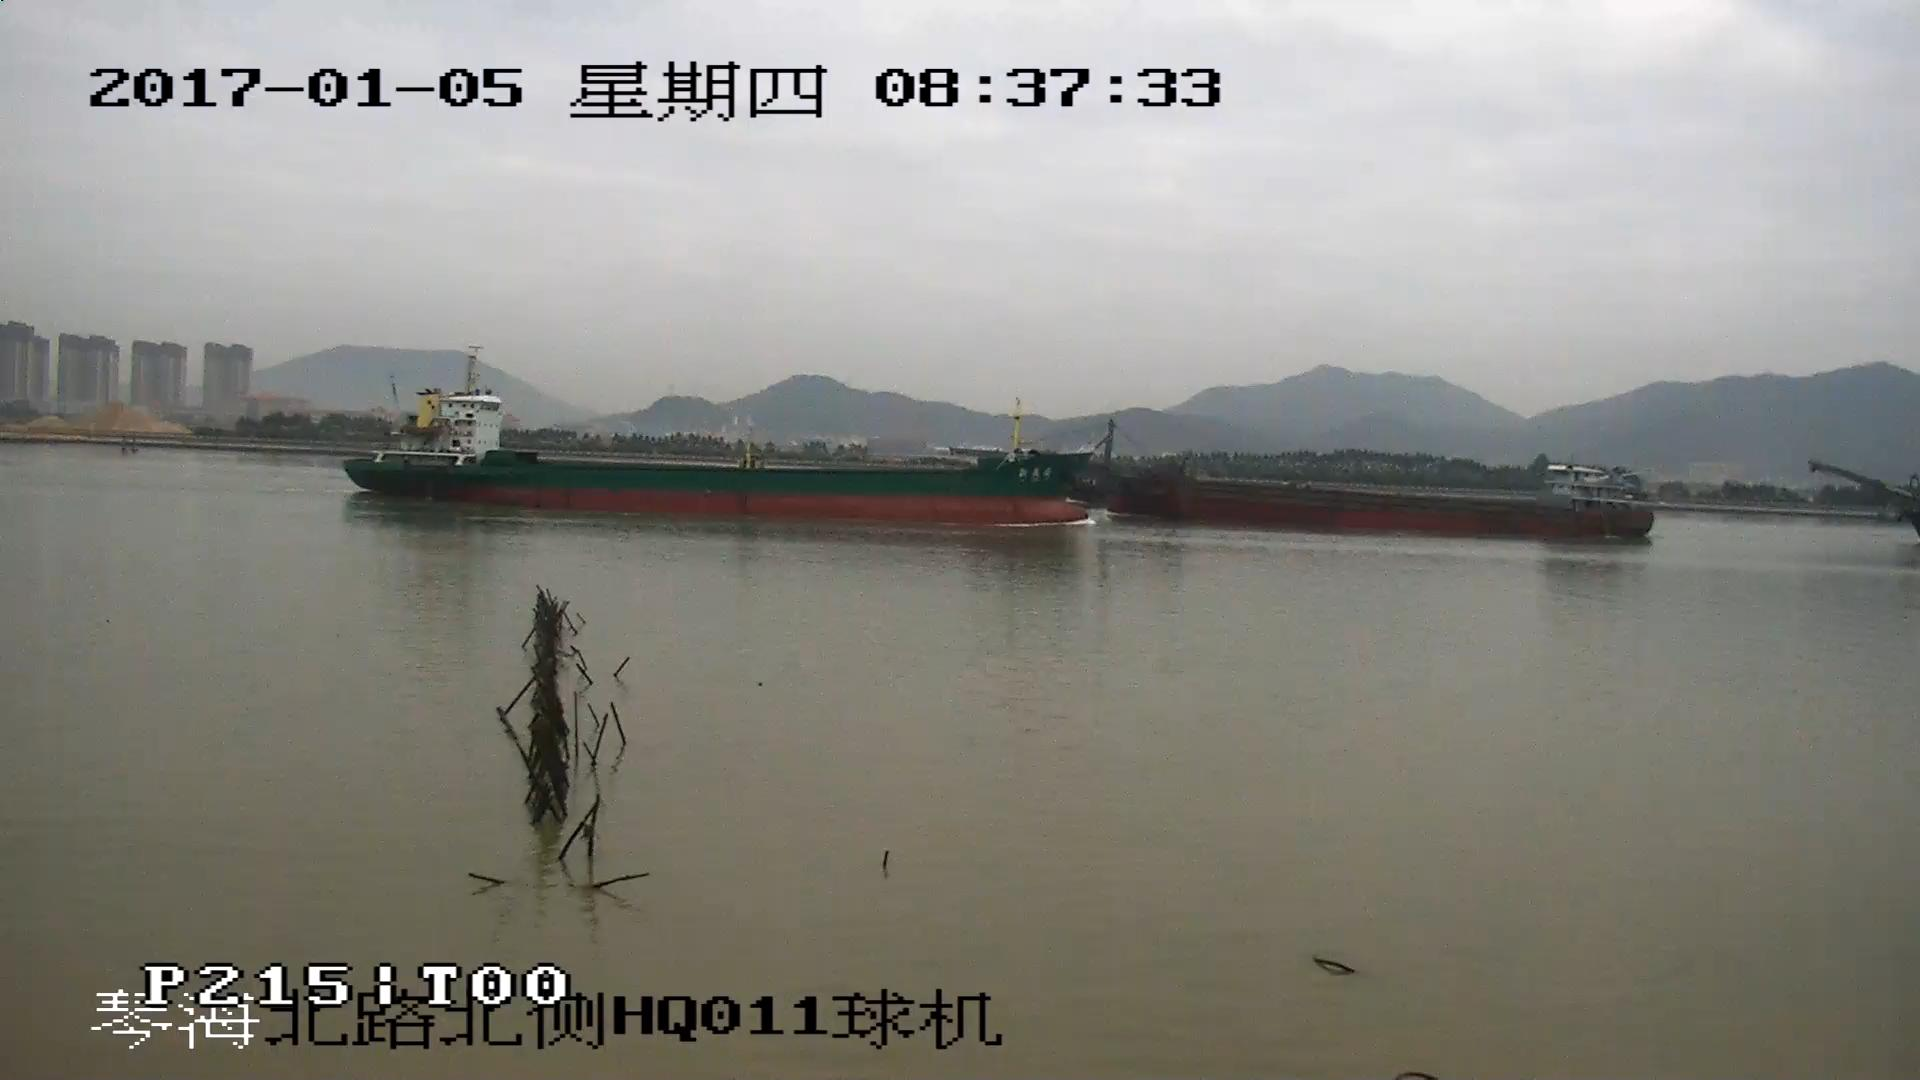bulk cargo carrier: (1108, 424, 1651, 533)
general cargo ship: (355, 351, 1098, 524)
